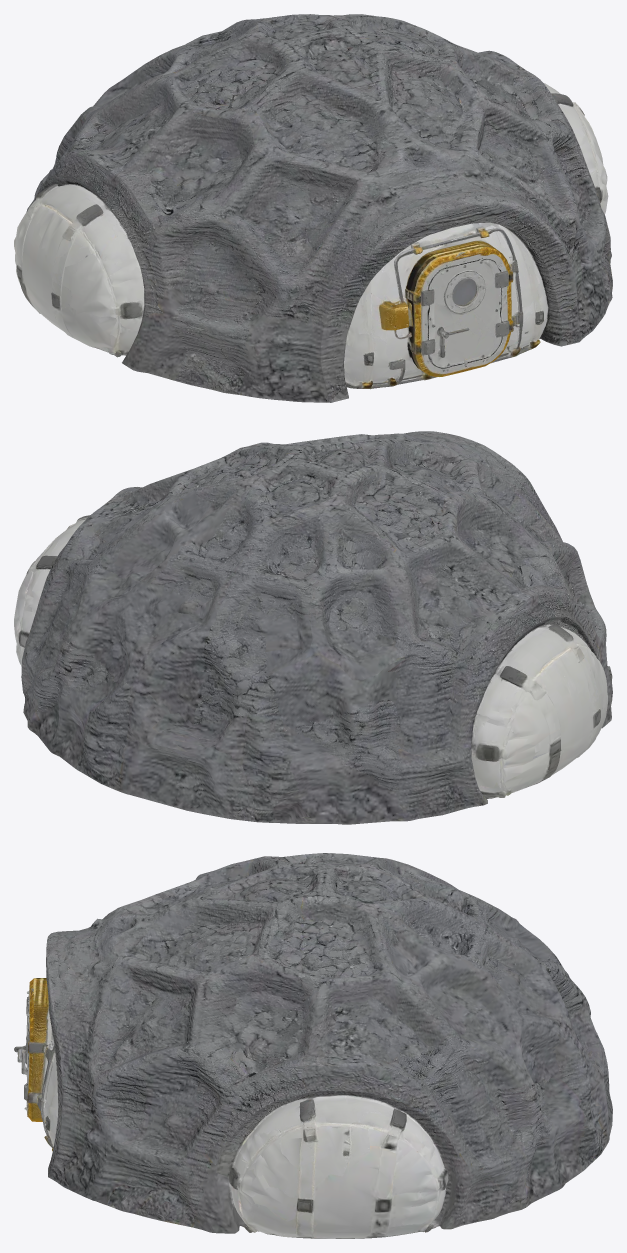
Rendered from moon-habitat.glb.
3 views of the same model, one above another, from view 1: azimuth 30°, elevation 25°; view 2: azimuth 150°, elevation 25°; view 3: azimuth 270°, elevation 25° (orthographic).
Visible parts, largest first — view 1: Mesh_0; view 2: Mesh_0; view 3: Mesh_0.
Boxes of the visible parts, x1,y1,x2,y2 form: Mesh_0: (14, 14, 612, 402); Mesh_0: (14, 431, 612, 824); Mesh_0: (14, 853, 612, 1238).
Size of the model in its own units: 1.9 by 0.7955 by 1.8.
Materials: 1 (1 with a texture image).
